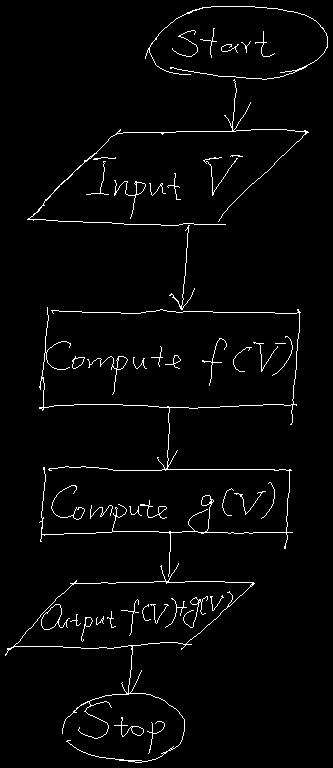arrow: (169, 225, 194, 309), (224, 79, 250, 130), (157, 406, 177, 470), (121, 646, 141, 694), (160, 531, 178, 583)
data: (27, 129, 308, 225), (5, 580, 254, 655)
process: (39, 307, 300, 424), (39, 466, 292, 548)
terminator: (145, 6, 327, 79), (62, 693, 184, 762)
text: (46, 336, 292, 394), (51, 482, 274, 533), (86, 155, 242, 218), (41, 591, 232, 641), (78, 701, 164, 753), (172, 28, 274, 57)
